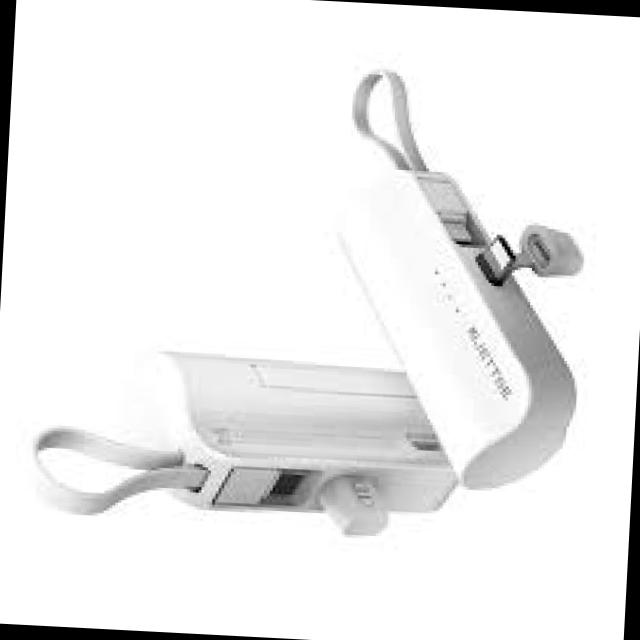power_bank: (320, 159, 598, 500), (128, 343, 471, 542)
